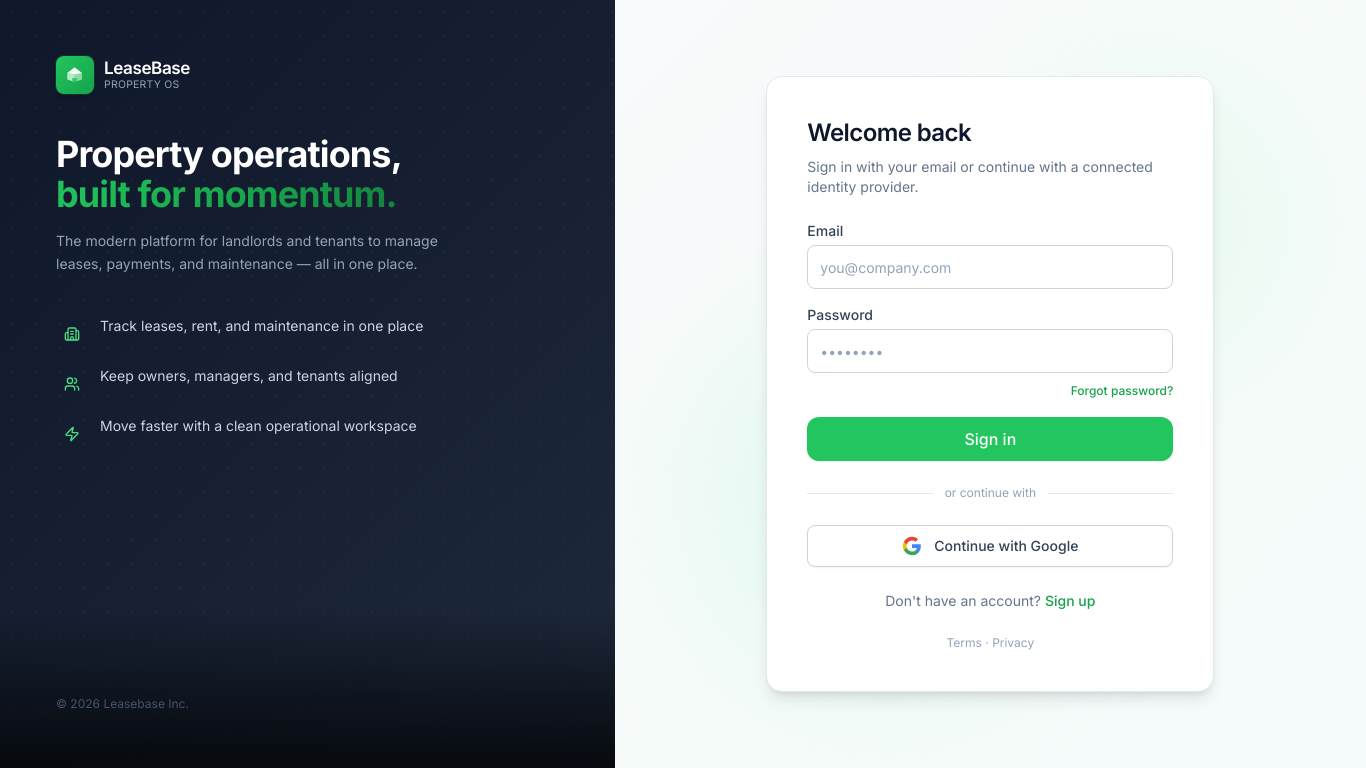
Test: Login — USER_NOT_CONFIRMED handling › shows confirm/resend CTAs when loginWithPassword throws code=USER_NOT_CONFIRMED
# Fill and submit the login form.
In the field labelled "Email": (990, 267) [807,245,1173,289], type "test@example.com"
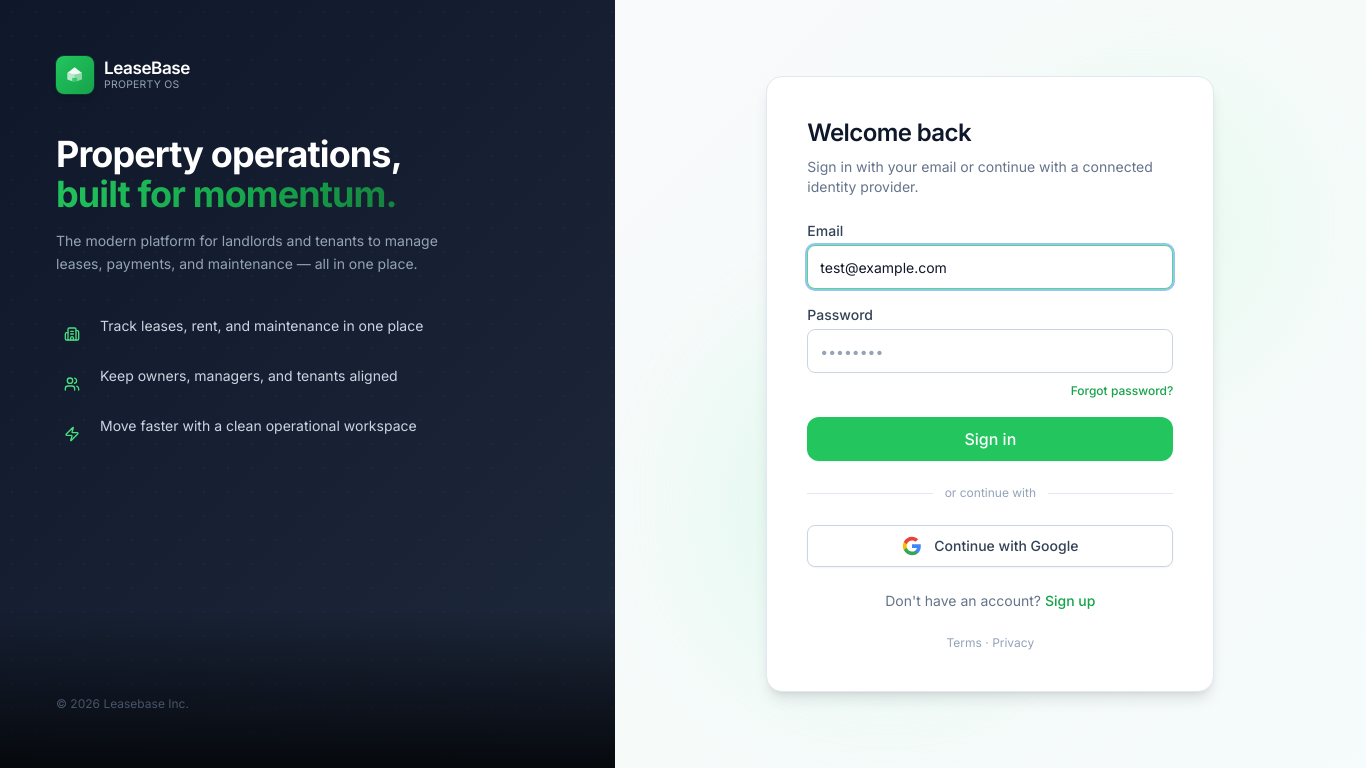
In the password field labelled "Password": (990, 351) [807,329,1173,373], type "SomePass1!"
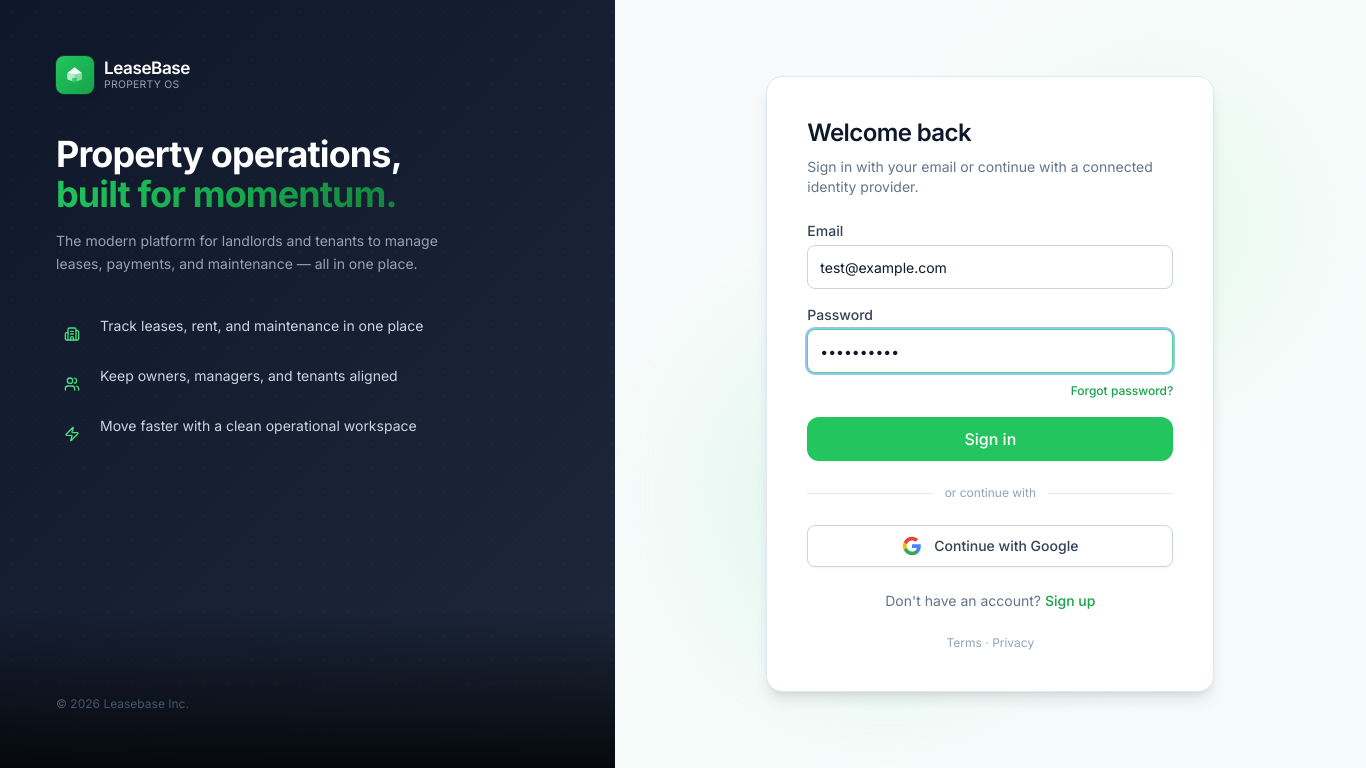
Click the button "Sign in": (990, 439) [807,417,1173,461]
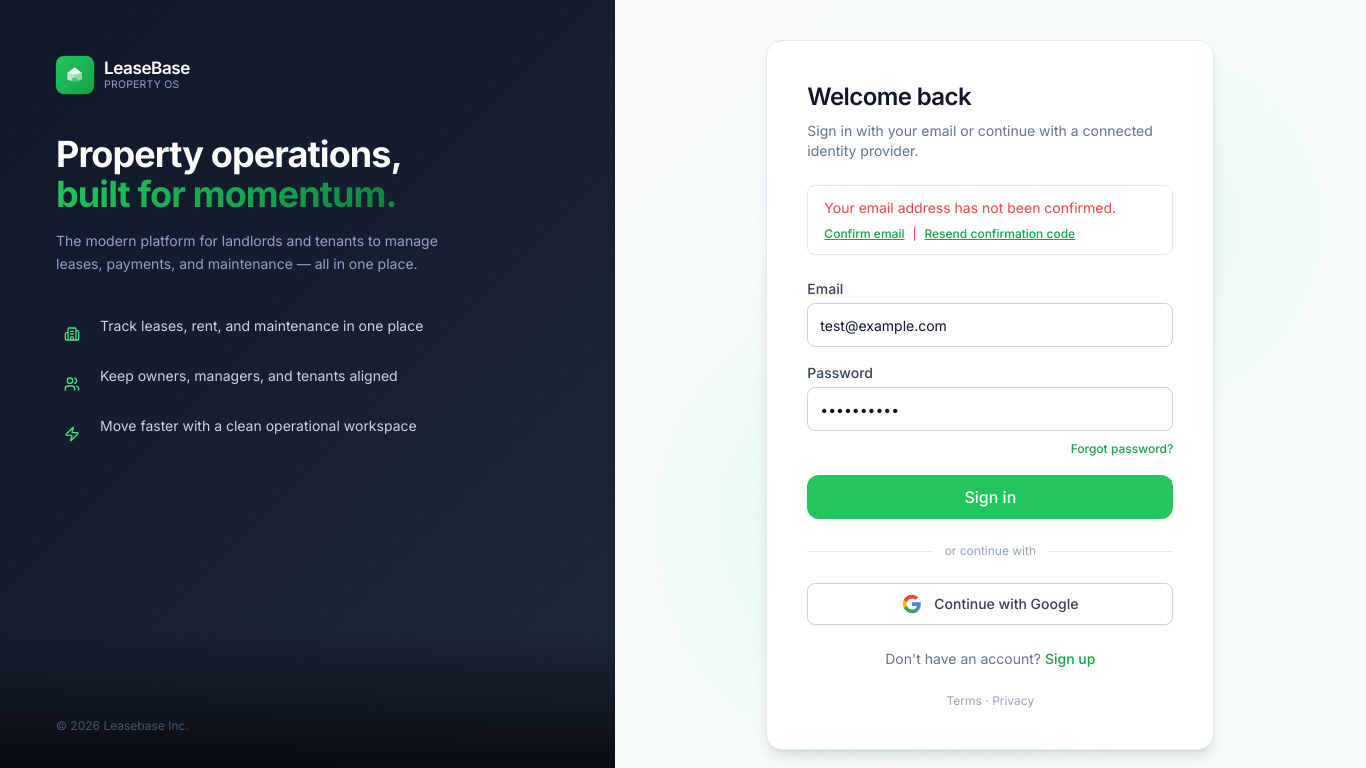
Now the message is shown, box [807,185,1173,255]
Now the text "Your email address has not been confirmed." is shown, box [824,198,1156,218]
Now the button "Confirm email" is shown, box [824,226,904,242]
